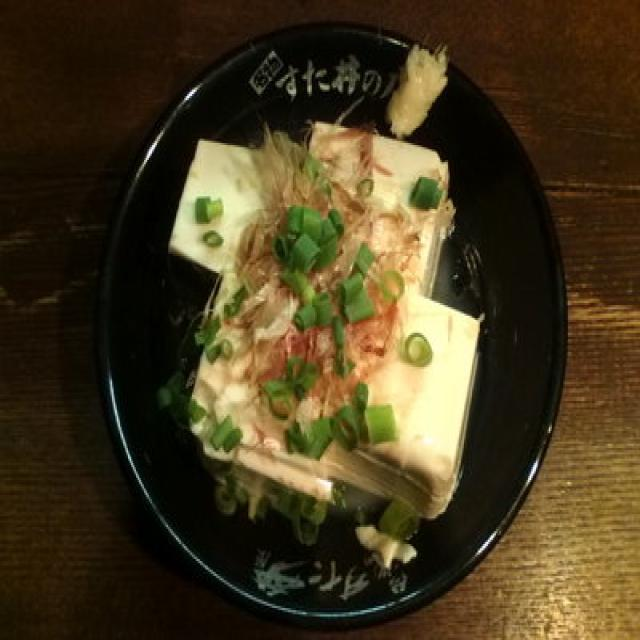豆腐料理: (165, 32, 478, 570)
